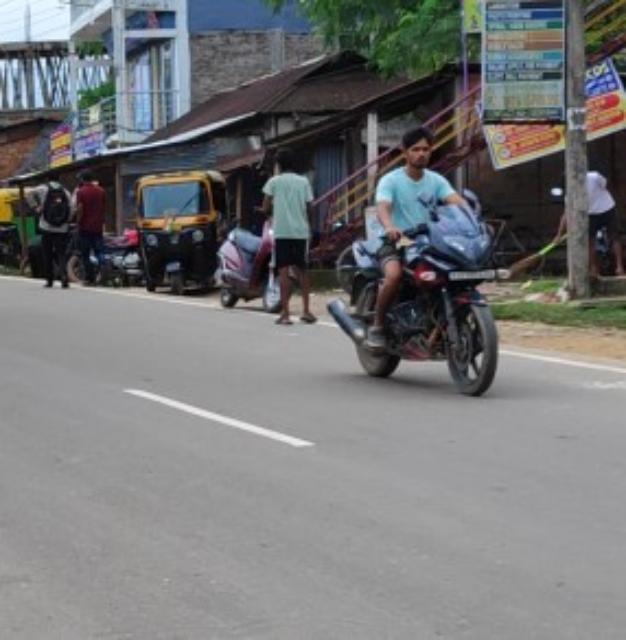licensePlate: (451, 268, 508, 285)
motorcycle: (328, 116, 515, 402)
withoutHelmet: (400, 125, 436, 170)
